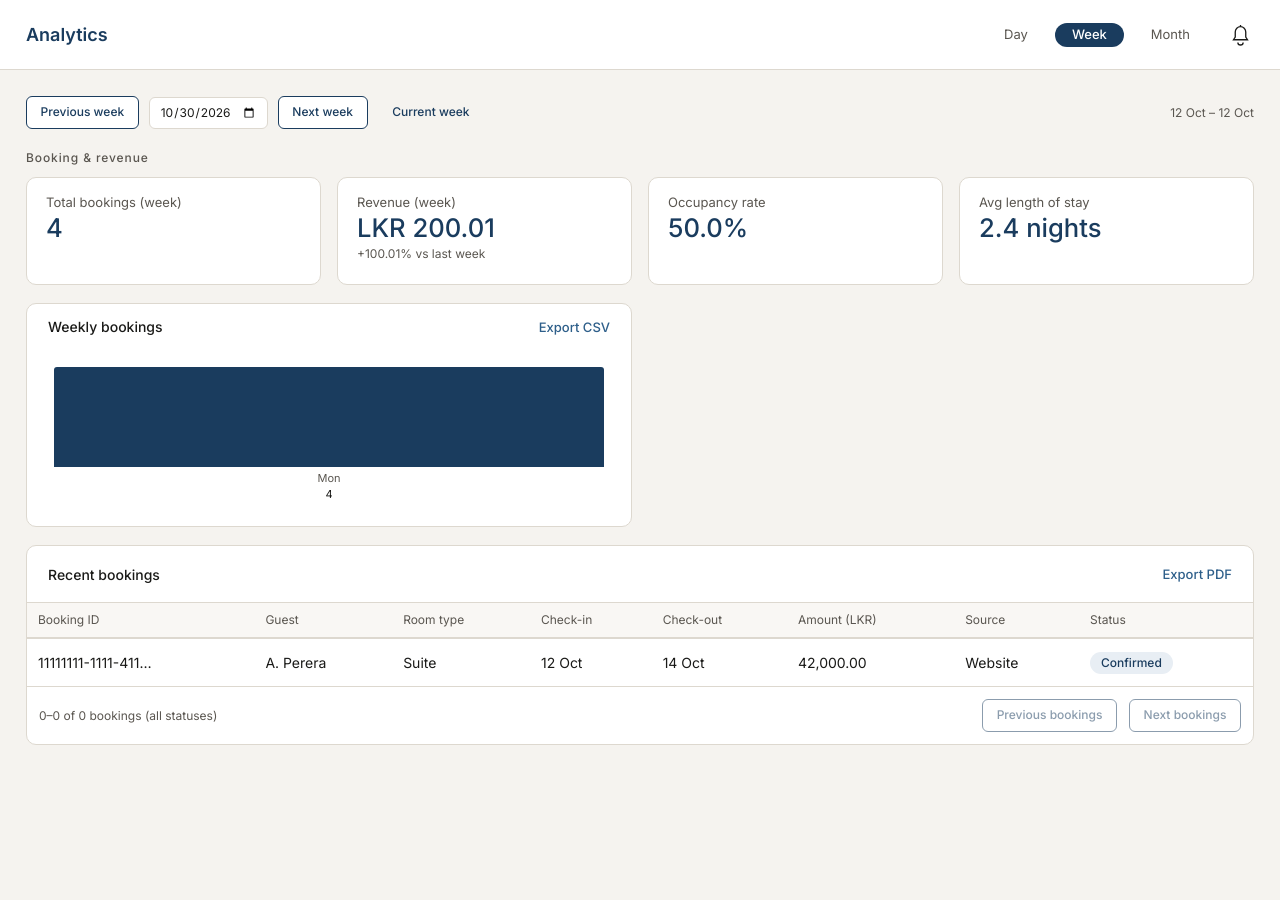
it: DDP-015 booking and revenue analytics › loads live summary cards and recent bookings without the superseded controls
Expected: the text "LKR 200.01" is shown, [357,212,495,243]
Expected: the text "50.0%" is shown, [668,212,748,243]
Click the button "Day": (1016, 34) [987,22,1045,46]
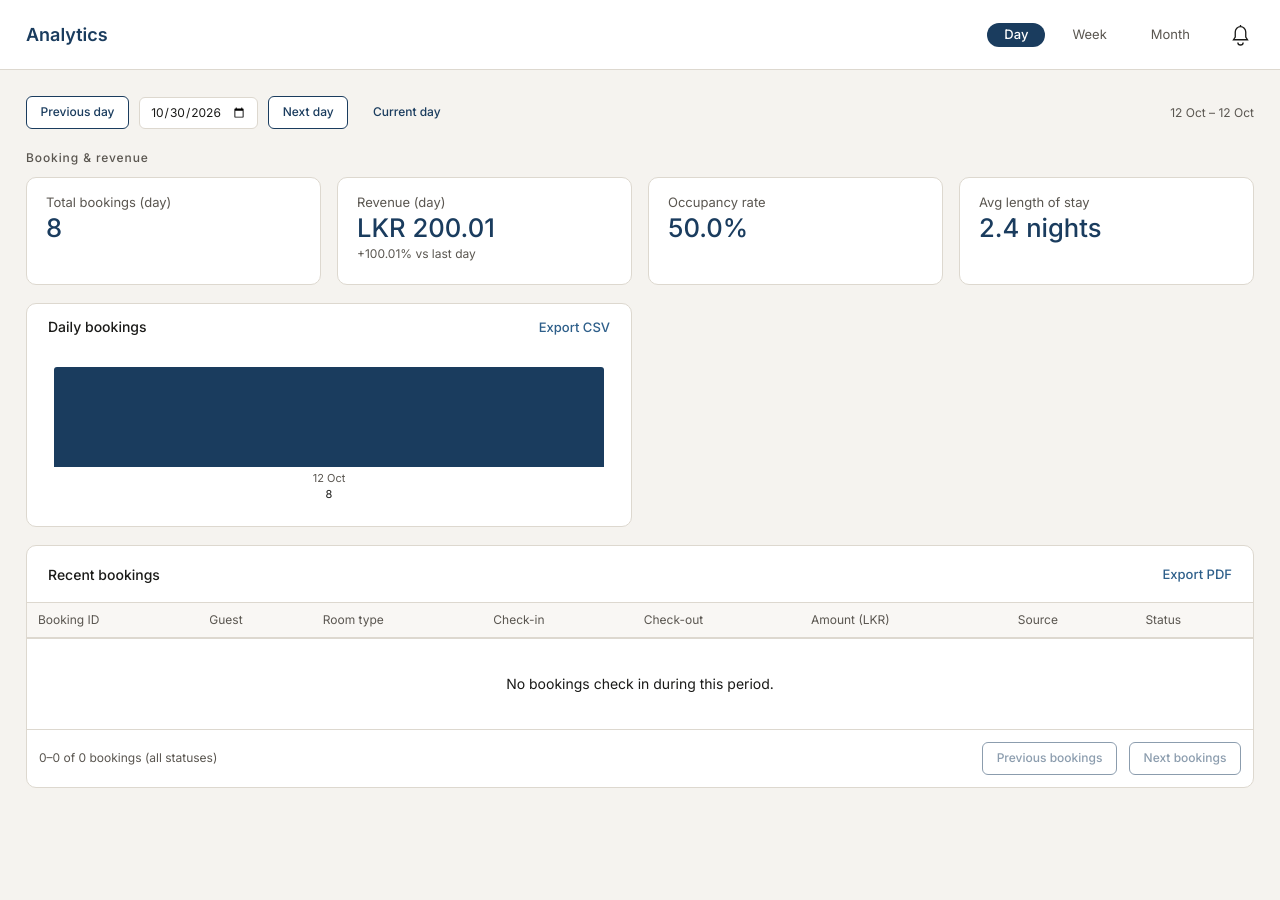
Result: the text "+100.01% vs last day" is shown at [357,246,476,261]
